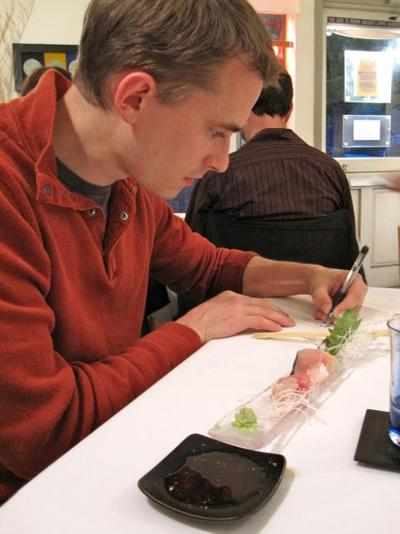person: (3, 4, 371, 498)
